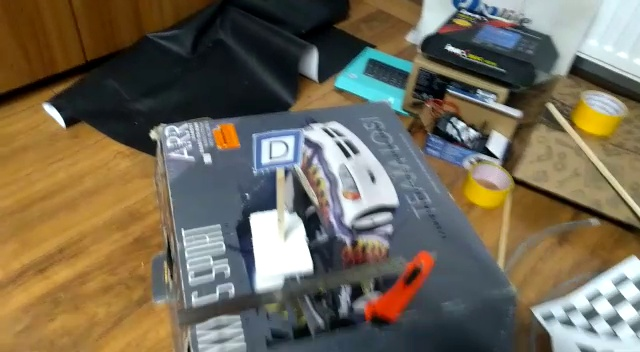durak: (251, 131, 303, 171)
